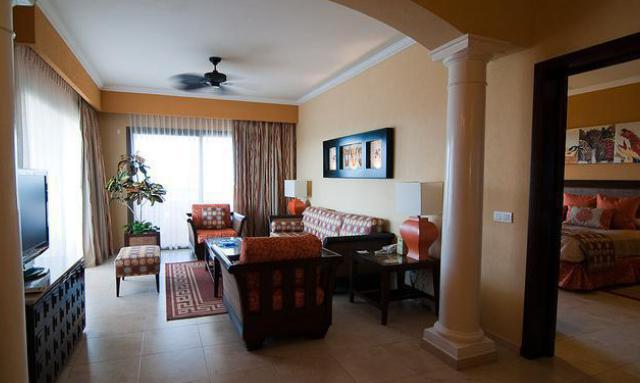Matera: (108, 152, 162, 261)
